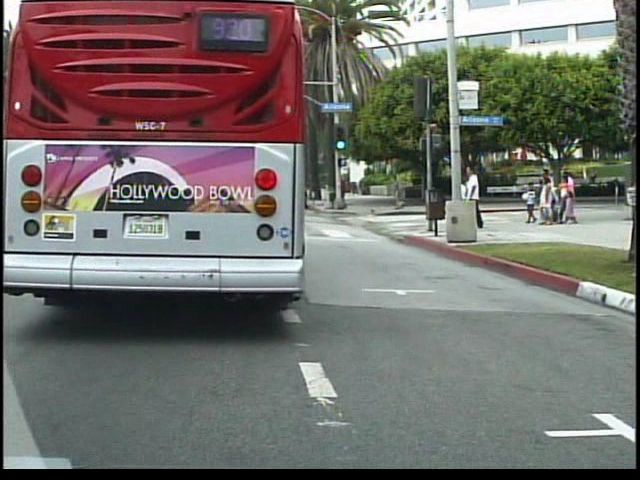person: (463, 161, 487, 231), (454, 172, 477, 227), (390, 172, 409, 213)
